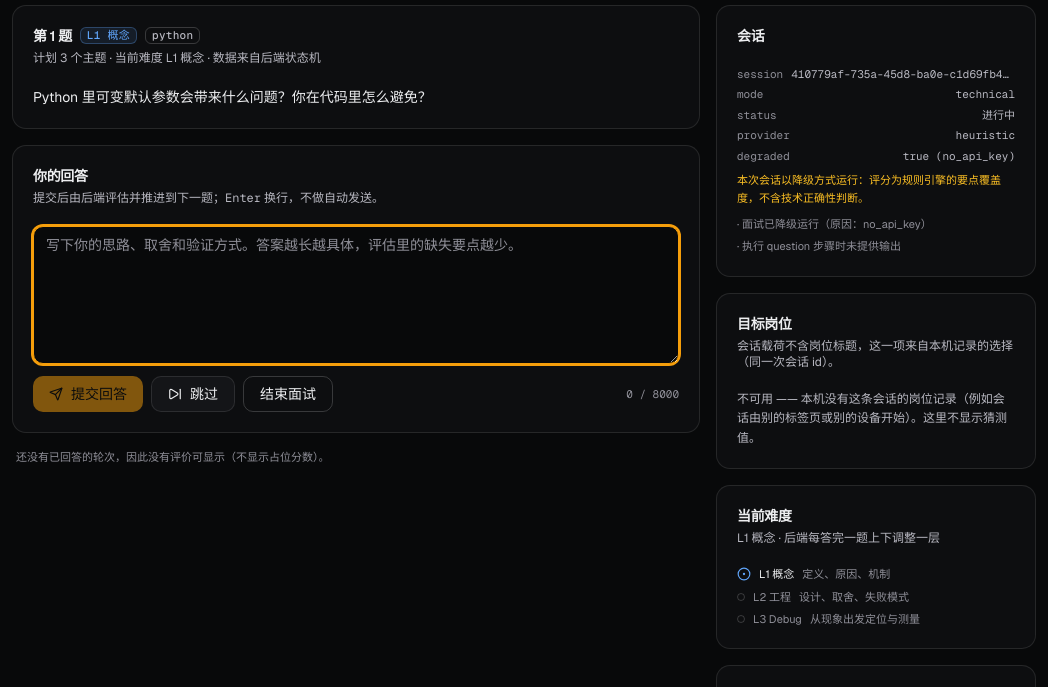
it: the workspace › appends the next question and its evaluation after an answer
expect the text "Python 里可变默认参数会带来什么问题？你在代码里怎么避免？" is shown: met, box [33,88,432,106]
expect the heading "第 1 题" is shown: met, box [33,26,72,46]
Step 1. Type "我用 None 作为默认值，避免可变对象在多次调用之间被共享。" into the text box named "你的回答" → coordinates (356, 295), box [33,226,679,364]
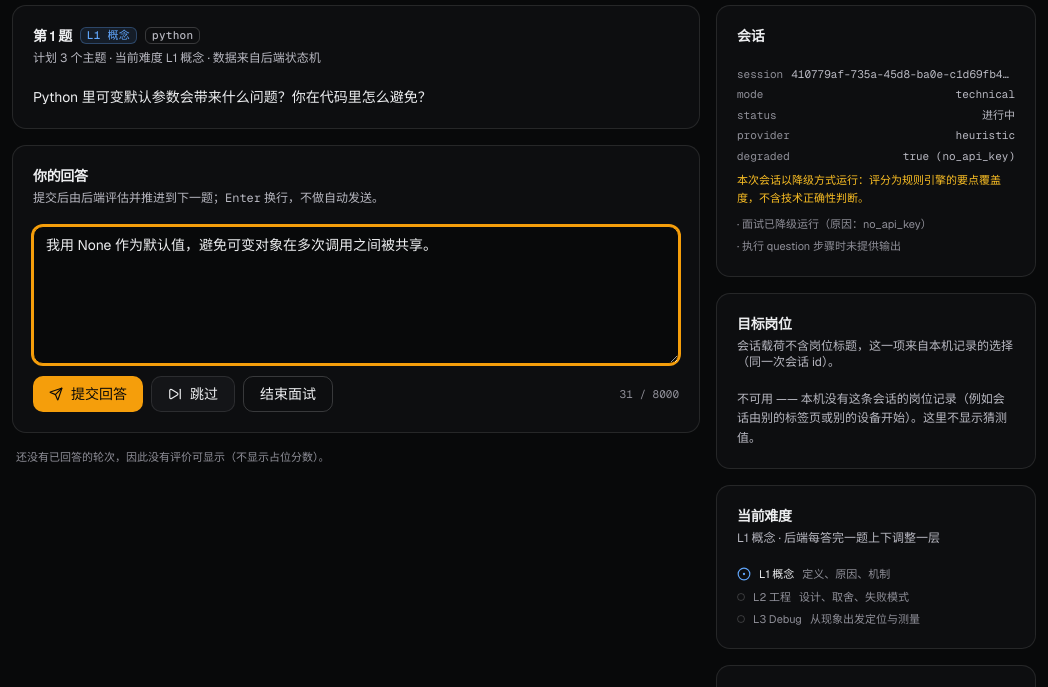
Step 2. Click the button "提交回答" → coordinates (88, 394), box [33,376,143,412]
(page scrolled)
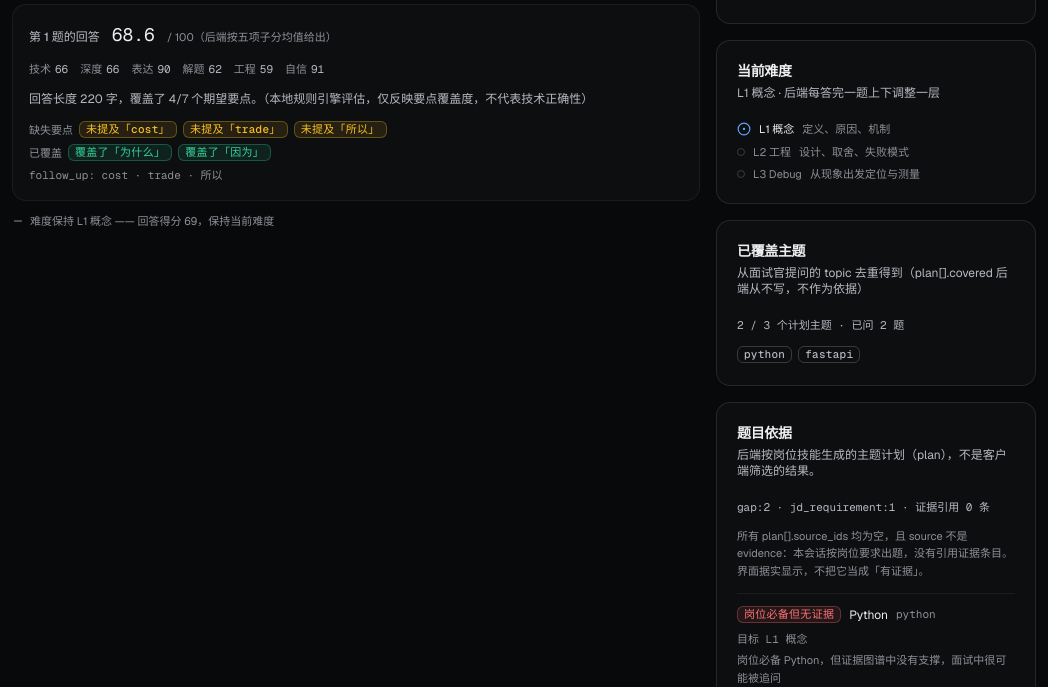
expect the text "回答长度 220 字，覆盖了 4/7 个期望要点。（本地规则引擎评估，仅反映要点覆盖度，不代表技术正确性）" is shown: met, box [29,90,683,109]
expect the text "68.6" is shown: met, box [112,21,155,49]
expect the text "未提及「cost」" is shown: met, box [79,121,177,138]
